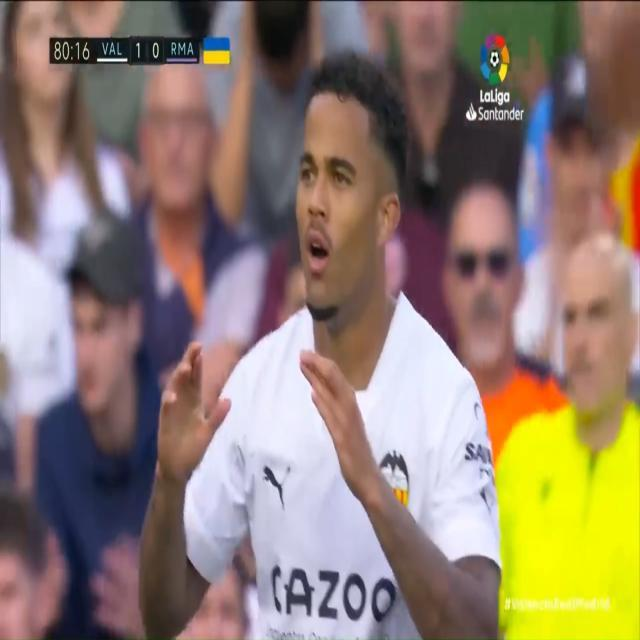player: (145, 35, 503, 640)
